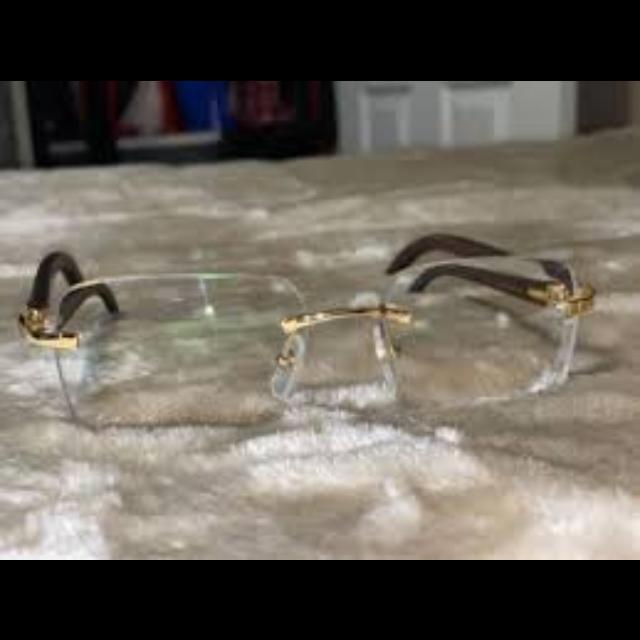mask: (19, 232, 595, 430)
